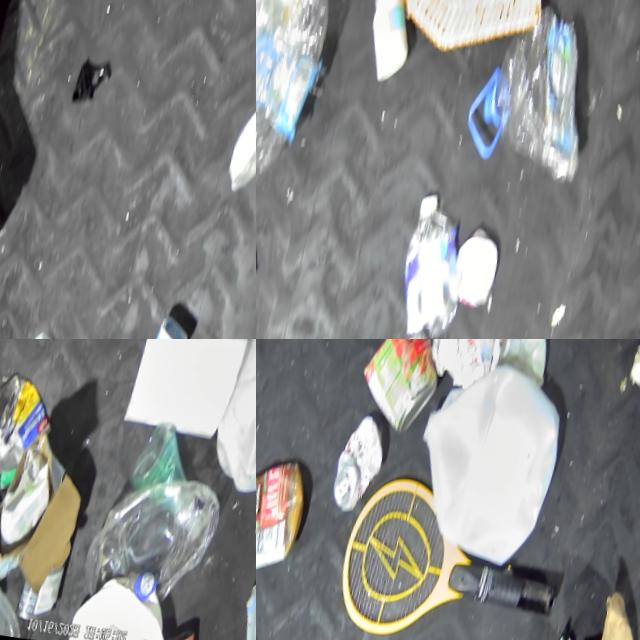can: (357, 339, 456, 437), (0, 370, 61, 475), (331, 420, 395, 514)
milk_jug: (399, 371, 572, 579), (217, 339, 256, 505)
non_white_jug: (393, 194, 485, 339)
plastic_bottle: (457, 0, 617, 189), (256, 0, 353, 178)
